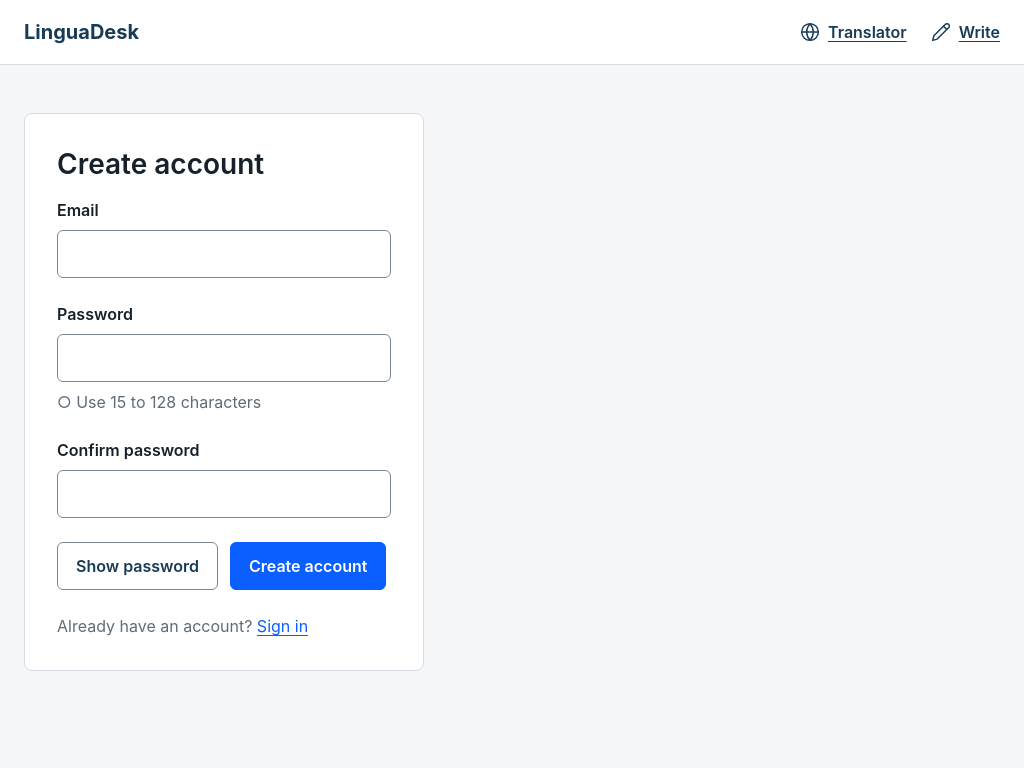
Scenario: registration valid submission › sends exactly one register request with only email and password, then offers sign in
Type "new-visitor@example.test" into the field labelled "Email". click: (224, 254)
box: [57,230,391,278]
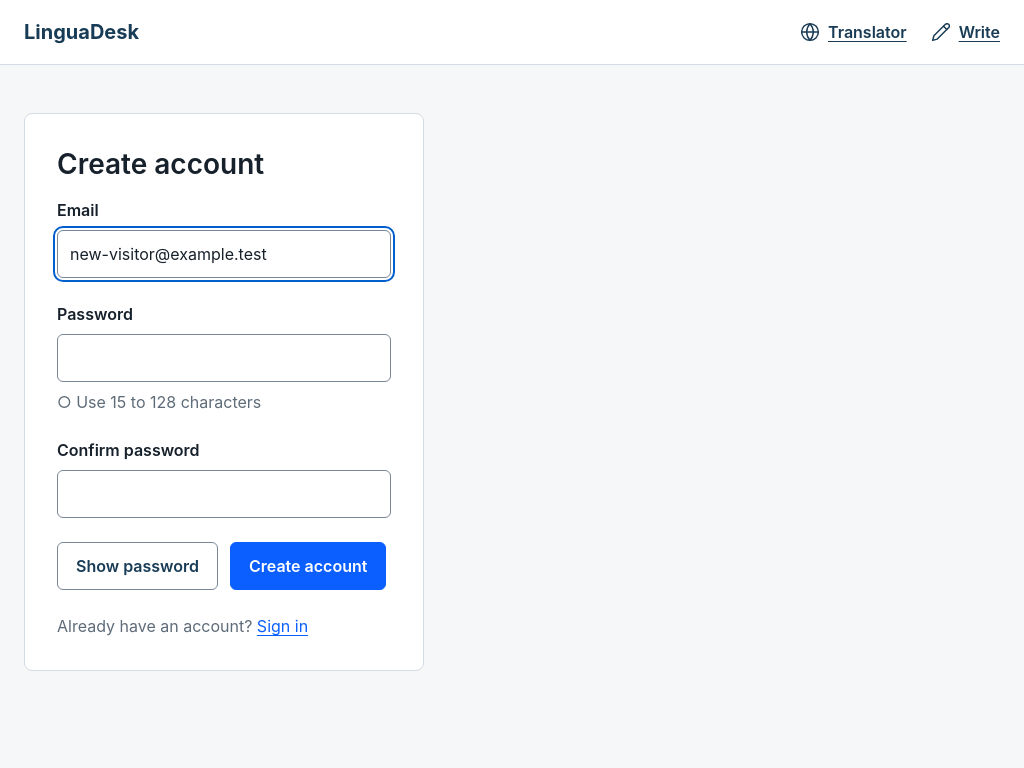
Type "Maple!River2026" into the password field labelled "Password". click: (224, 358)
box: [57,334,391,382]
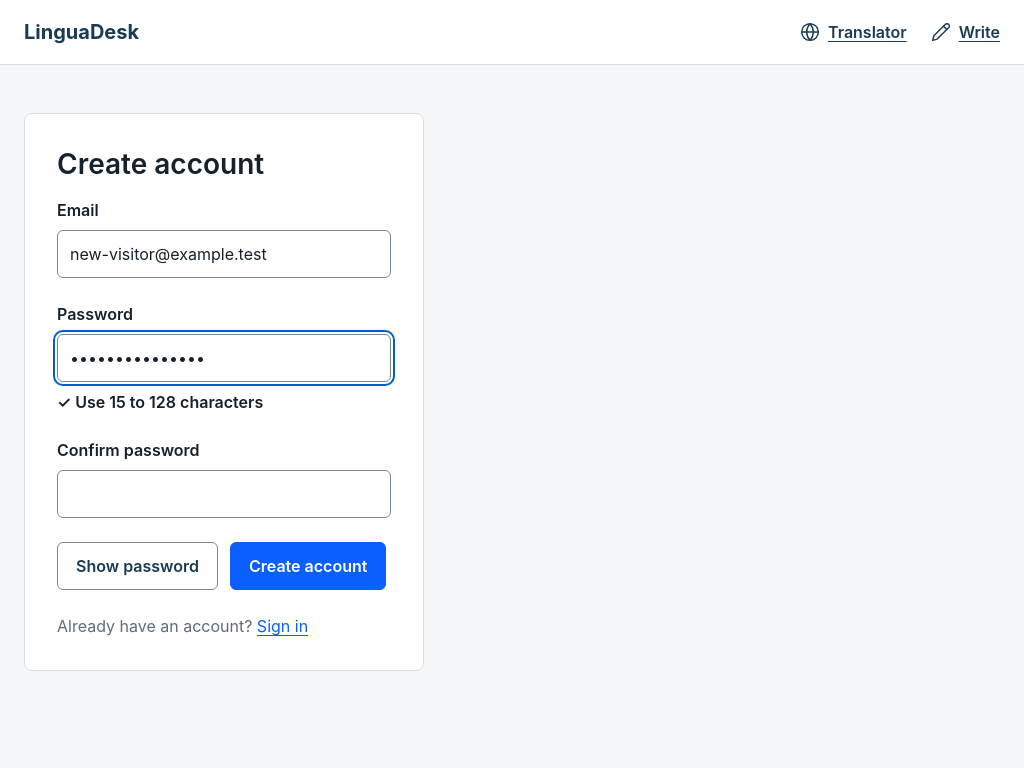
Type "Maple!River2026" into the password field labelled "Confirm password". click: (224, 494)
box: [57,470,391,518]
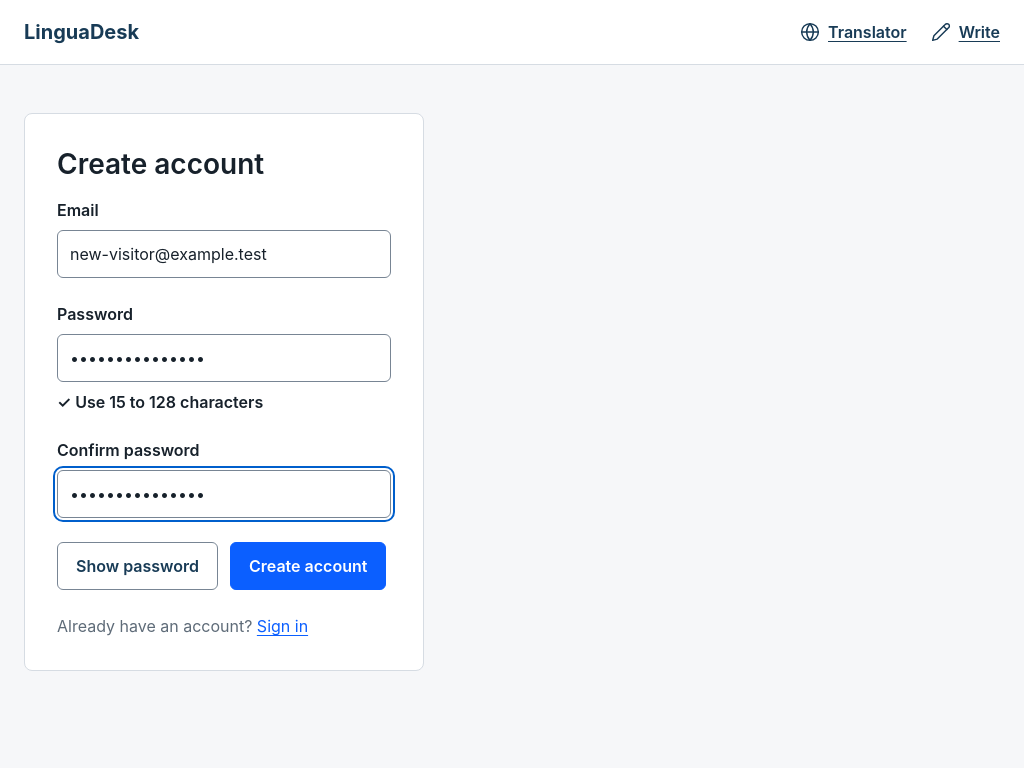
Click the button "Create account". click: (308, 566)
box: [230,542,386,590]
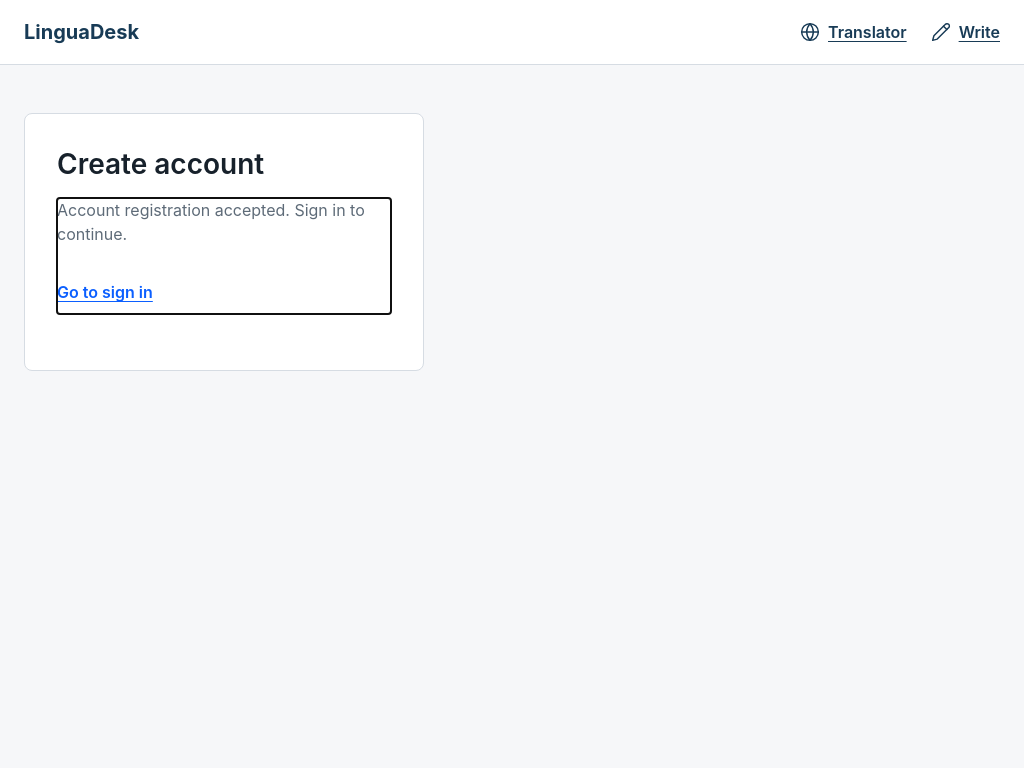
Expected: the text "Account registration accepted. Sign in to continue." is shown, [57,198,391,246]
Expected: the label labelled "Password" is gone
Expected: the label labelled "Confirm password" is gone
